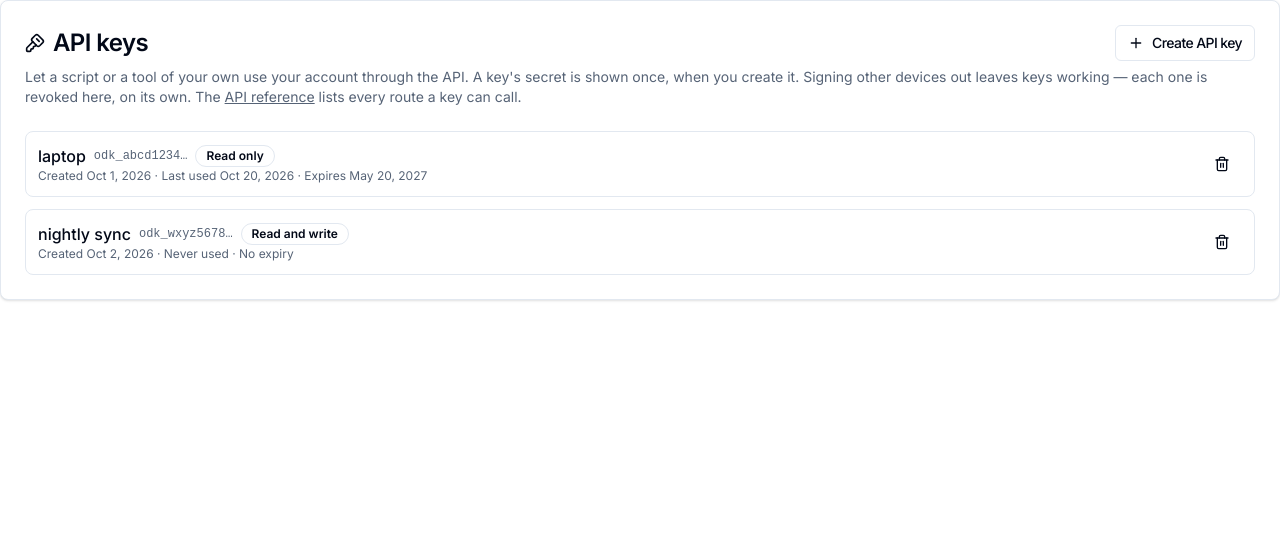
Test: ApiKeysCard › opens the form defaulting to read only and a year
Expected: the text "laptop" is shown, top-left (38, 144), bottom-right (86, 168)
Step 1. Click the button "Create API key" → (1185, 43), box top-left (1115, 25), bottom-right (1255, 61)
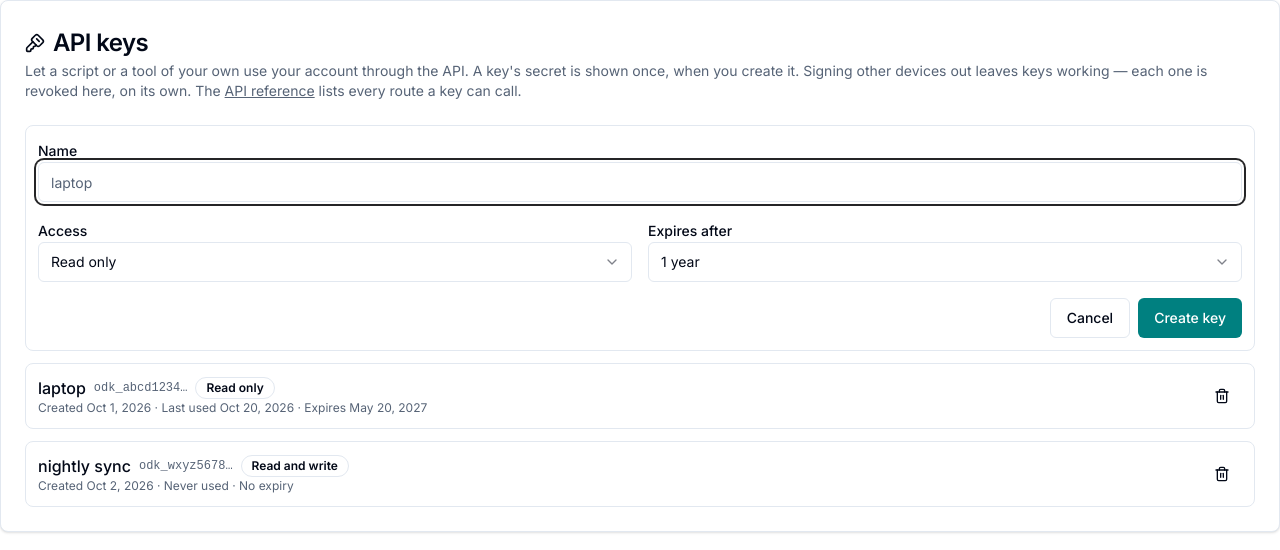
Result: the dropdown labelled "Access" shows "Read only" at top-left (38, 242), bottom-right (632, 282)
Result: the dropdown labelled "Expires after" shows "1 year" at top-left (648, 242), bottom-right (1242, 282)
